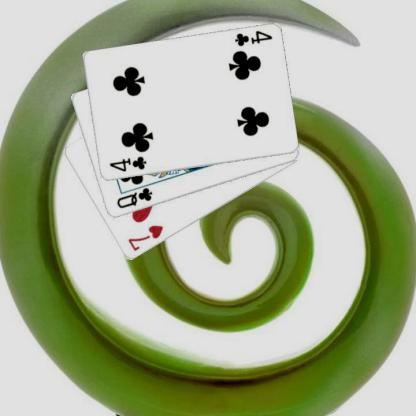4C: (232, 28, 273, 48), (107, 154, 148, 173)
7H: (124, 223, 164, 253)
QC: (114, 186, 154, 210)
